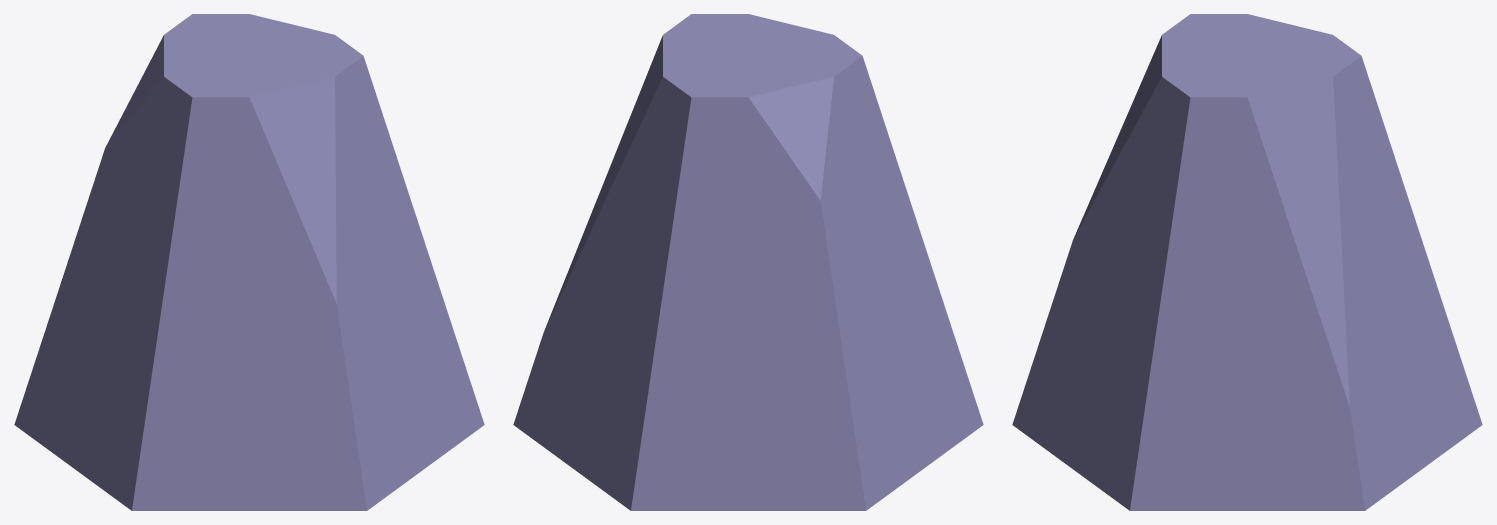
File: rock.fbx
3 views of the same model, side by side, from view 1: azimuth 30°, elevation 25°; view 2: azimuth 150°, elevation 25°; view 3: azimuth 270°, elevation 25° (orthographic).
Visible parts, largest first — view 1: rock; view 2: rock; view 3: rock.
Part boxes in pixels (x1,y1,x2,y2): rock: (14,14,484,510); rock: (513,14,983,510); rock: (1012,14,1482,510).
Size of the model in its own units: 10 by 10 by 11.55.
